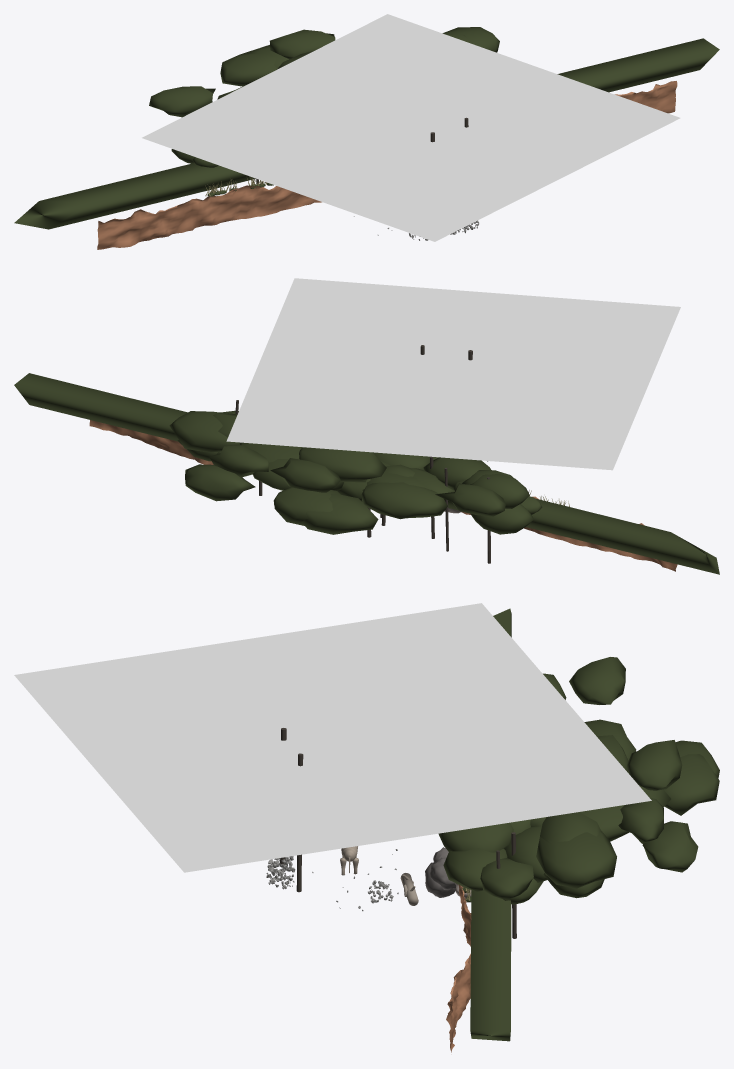
The picture shows the model from 3 angles, top to bottom: view 1: azimuth 30°, elevation 25°; view 2: azimuth 150°, elevation 25°; view 3: azimuth 270°, elevation 25°; orthographic projection. The views are drawn at different scales.
Parts seen in each view (by area): view 1: DappleGobo.001, HedgeBand.001, RockWall.001, CanopyFill_2.001, CanopyFill_4.001, CanopyFill_0.001, CanopyFill_6.001, GrassTufts.001; view 2: DappleGobo.001, HedgeBand.001, Canopy_0.001, CanopyFill_4.001, CanopyFill_3.001, RockWall.001, CanopyFill_6.001, CanopyFill_9.001, CanopyFill_8.001, CanopyFill_0.001, CanopyFill_2.001, CanopyFill_1.001 (+7 smaller); view 3: DappleGobo.001, HedgeBand.001, CanopyFill_6.001, CanopyFill_8.001, CanopyFill_0.001, CanopyFill_2.001, CanopyFill_9.001, FoliageTop_1.001, FoliageTop_7.001, FoliageTop_5.001, RockWall.001, CanopyFill_1.001 (+5 smaller).
Part boxes in pixels (x1,y1,x2,y2): DappleGobo.001: [142, 14, 680, 241]; HedgeBand.001: [14, 38, 719, 229]; RockWall.001: [97, 81, 677, 249]; CanopyFill_2.001: [149, 86, 215, 117]; CanopyFill_4.001: [220, 48, 277, 86]; CanopyFill_0.001: [269, 29, 335, 59]; CanopyFill_6.001: [442, 27, 499, 52]; GrassTufts.001: [205, 177, 273, 196]; DappleGobo.001: [226, 278, 680, 470]; HedgeBand.001: [14, 373, 719, 574]; Canopy_0.001: [361, 482, 447, 519]; CanopyFill_4.001: [301, 493, 378, 534]; CanopyFill_3.001: [299, 447, 386, 482]; RockWall.001: [89, 420, 677, 571]; CanopyFill_6.001: [169, 411, 240, 452]; CanopyFill_9.001: [185, 464, 255, 501]; CanopyFill_8.001: [273, 487, 340, 525]; CanopyFill_0.001: [270, 458, 340, 492]; CanopyFill_2.001: [435, 483, 505, 516]; CanopyFill_1.001: [209, 445, 268, 477]; DappleGobo.001: [14, 603, 651, 872]; HedgeBand.001: [470, 608, 511, 1041]; CanopyFill_6.001: [536, 830, 616, 888]; CanopyFill_8.001: [664, 754, 719, 815]; CanopyFill_0.001: [627, 740, 682, 790]; CanopyFill_2.001: [569, 657, 625, 704]; CanopyFill_9.001: [642, 821, 698, 872]; FoliageTop_1.001: [480, 858, 533, 900]; FoliageTop_7.001: [438, 822, 513, 852]; FoliageTop_5.001: [443, 848, 507, 891]; RockWall.001: [446, 884, 471, 1052]; CanopyFill_1.001: [618, 797, 663, 843].
Size of the model in its own units: 62.42 by 9.01 by 42.54.
